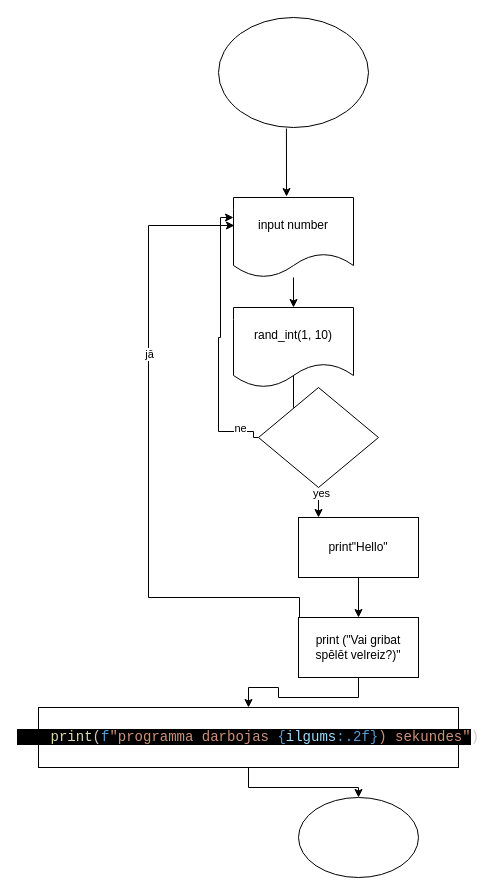
This 496x895 diagram has some shape labels left out. Each missing label, with the centre of its shape:
"end" goes at (x=358, y=837).
"if number = rand_int(1, 10" goes at (x=318, y=437).
"starts" goes at (x=293, y=72).
